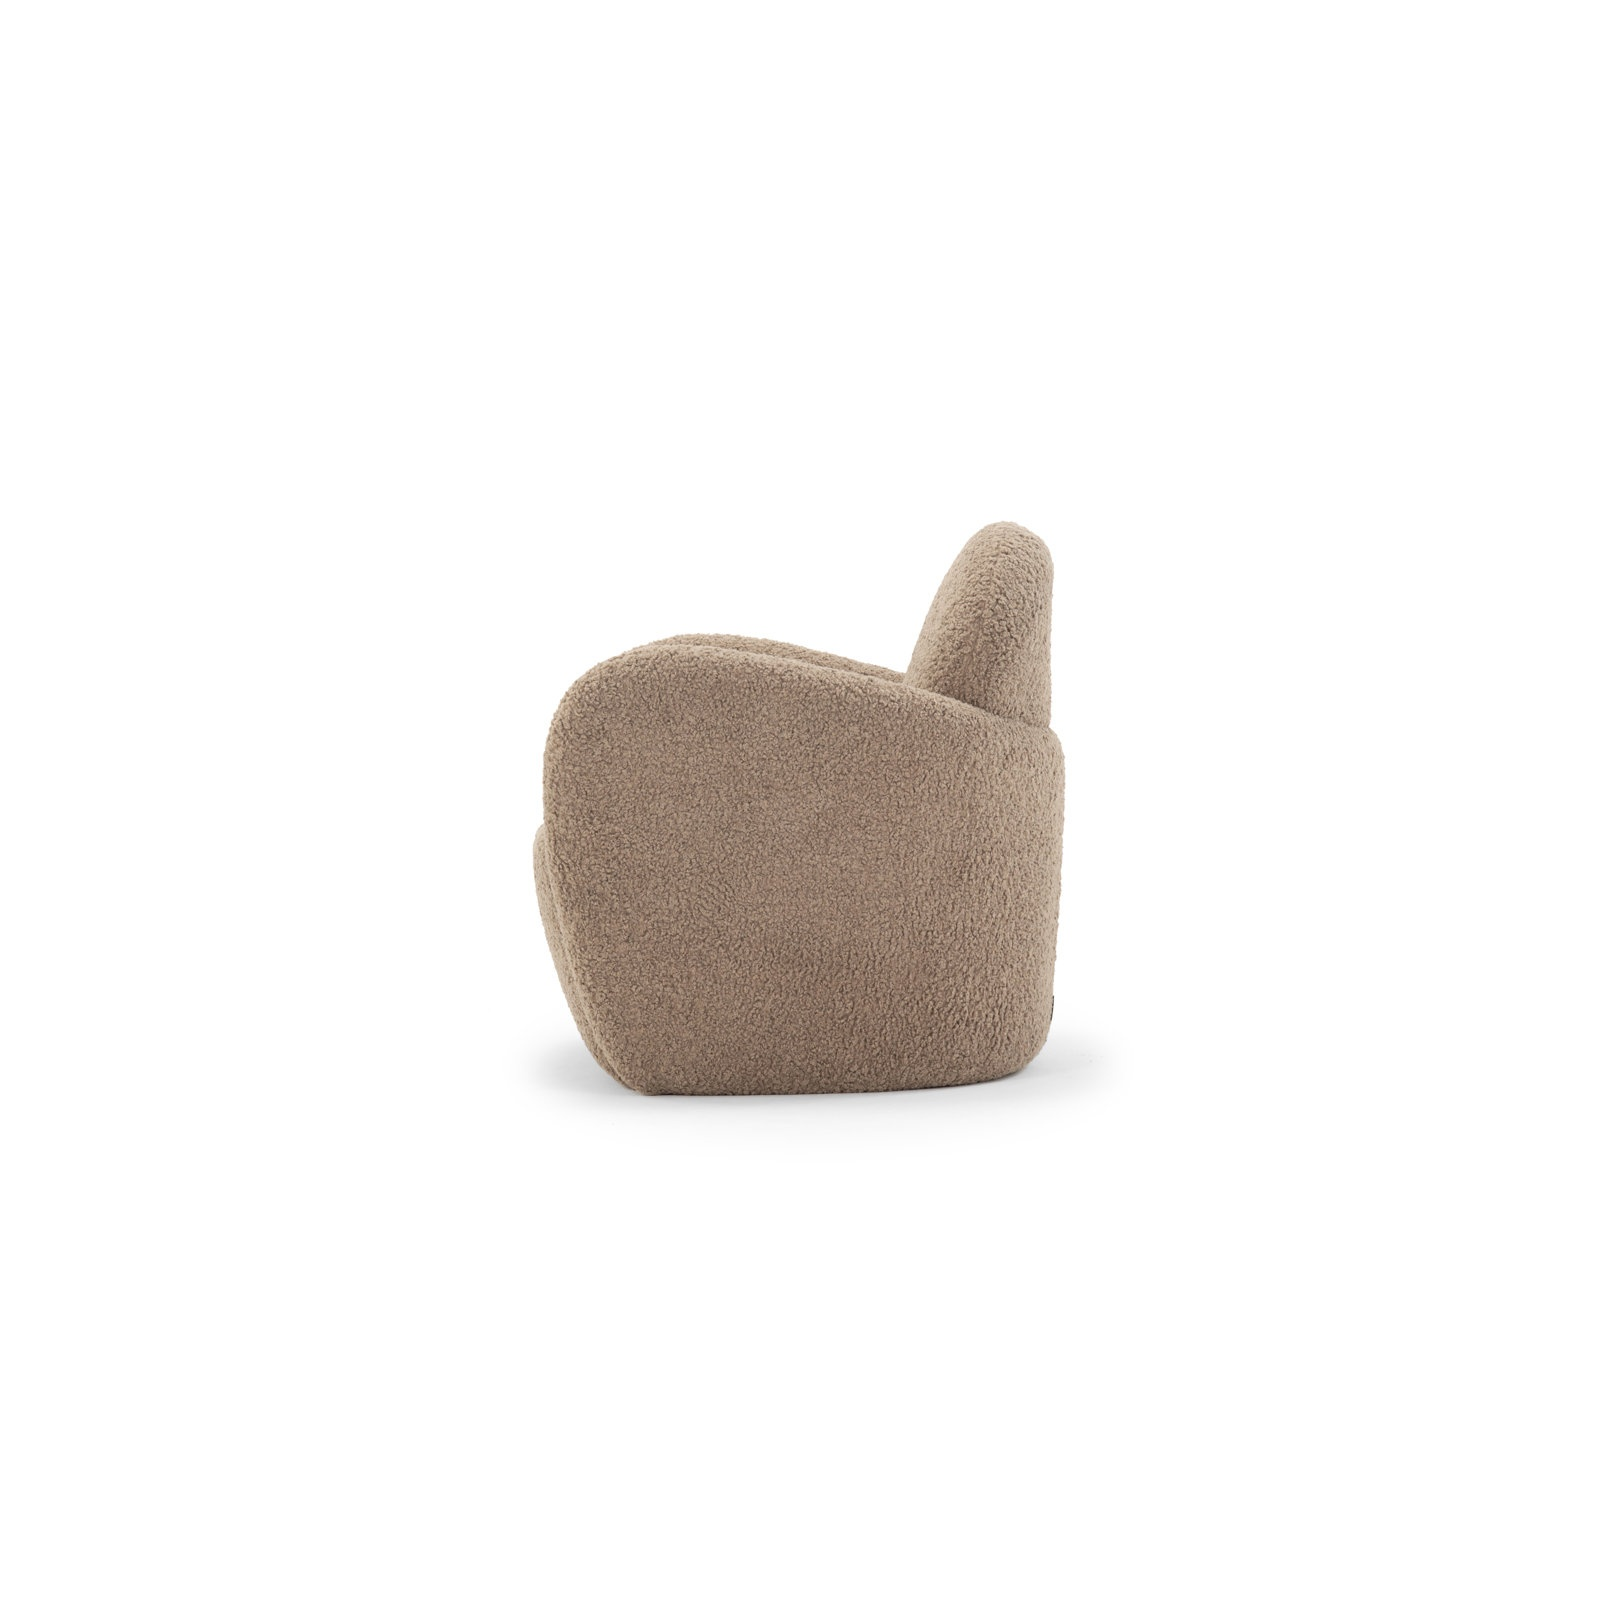obstacle: (535, 523, 1064, 1093)
